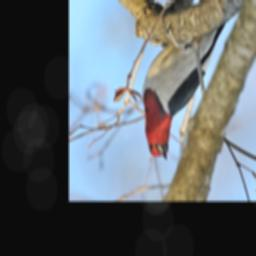Woodpecker: (138, 5, 232, 168)
